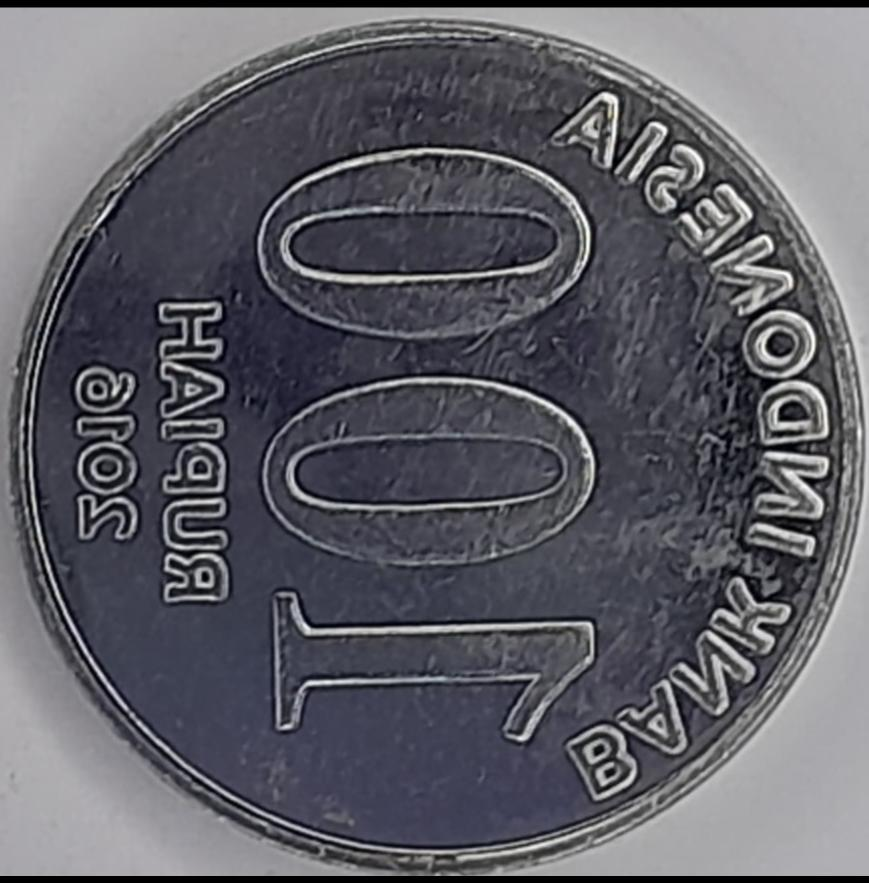coin_100_e2016: (0, 13, 868, 872)
